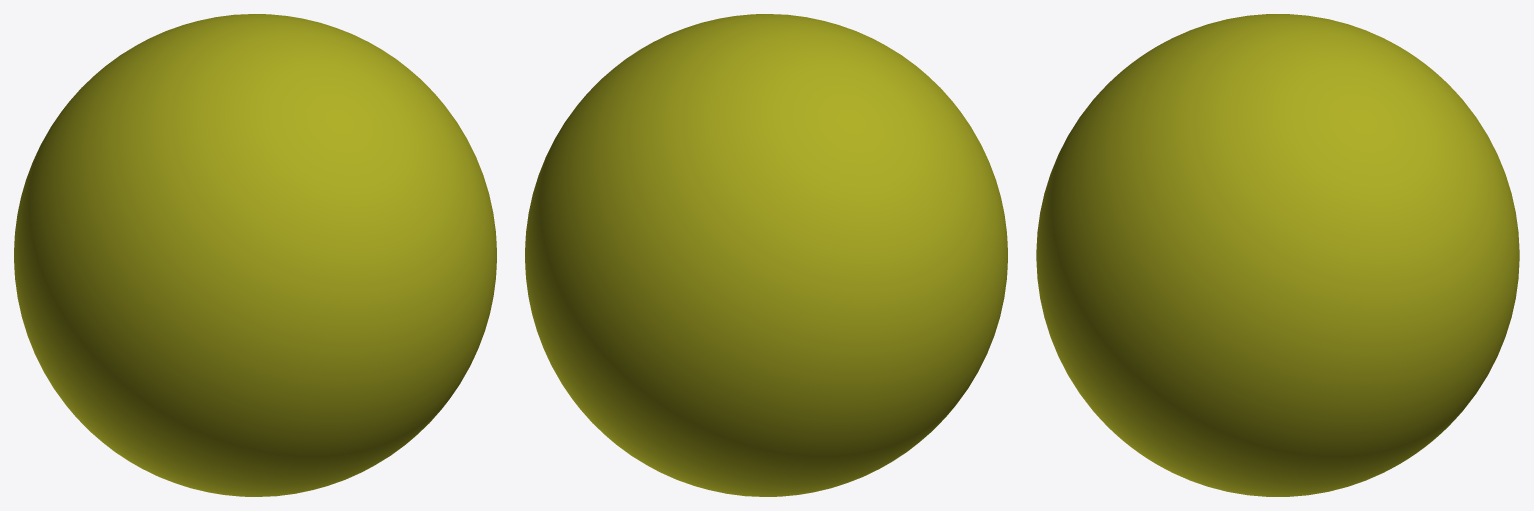
File: star core.fbx
The picture shows the model from 3 angles, left to right: view 1: azimuth 30°, elevation 25°; view 2: azimuth 150°, elevation 25°; view 3: azimuth 270°, elevation 25°; orthographic projection.
Visible parts, largest first — view 1: Surface; view 2: Surface; view 3: Surface.
Boxes of the visible parts, x1,y1,x2,y2 form: Surface: (14, 14, 496, 496); Surface: (525, 14, 1007, 496); Surface: (1036, 14, 1519, 496).
Size of the model in its own units: 39.99 by 40.02 by 39.99.
